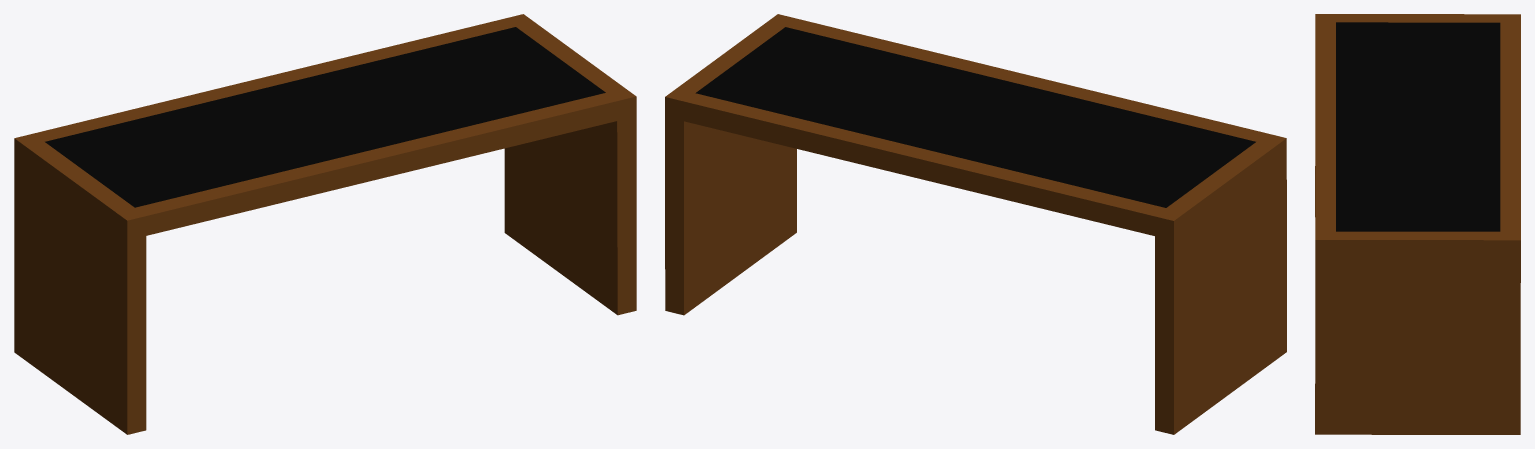
File: table.fbx
3 views of the same model, side by side, from view 1: azimuth 30°, elevation 25°; view 2: azimuth 150°, elevation 25°; view 3: azimuth 270°, elevation 25° (orthographic). The views are drawn at different scales.
Parts seen in each view (by area): view 1: Cube, up; view 2: Cube, up; view 3: Cube, up.
Boxes of the visible parts, x1,y1,x2,y2 form: Cube: [14, 14, 636, 434]; up: [45, 27, 605, 207]; Cube: [665, 14, 1286, 434]; up: [695, 27, 1255, 207]; Cube: [1315, 14, 1520, 434]; up: [1336, 22, 1500, 231].
Size of the model in its own units: 750 by 302 by 289.
